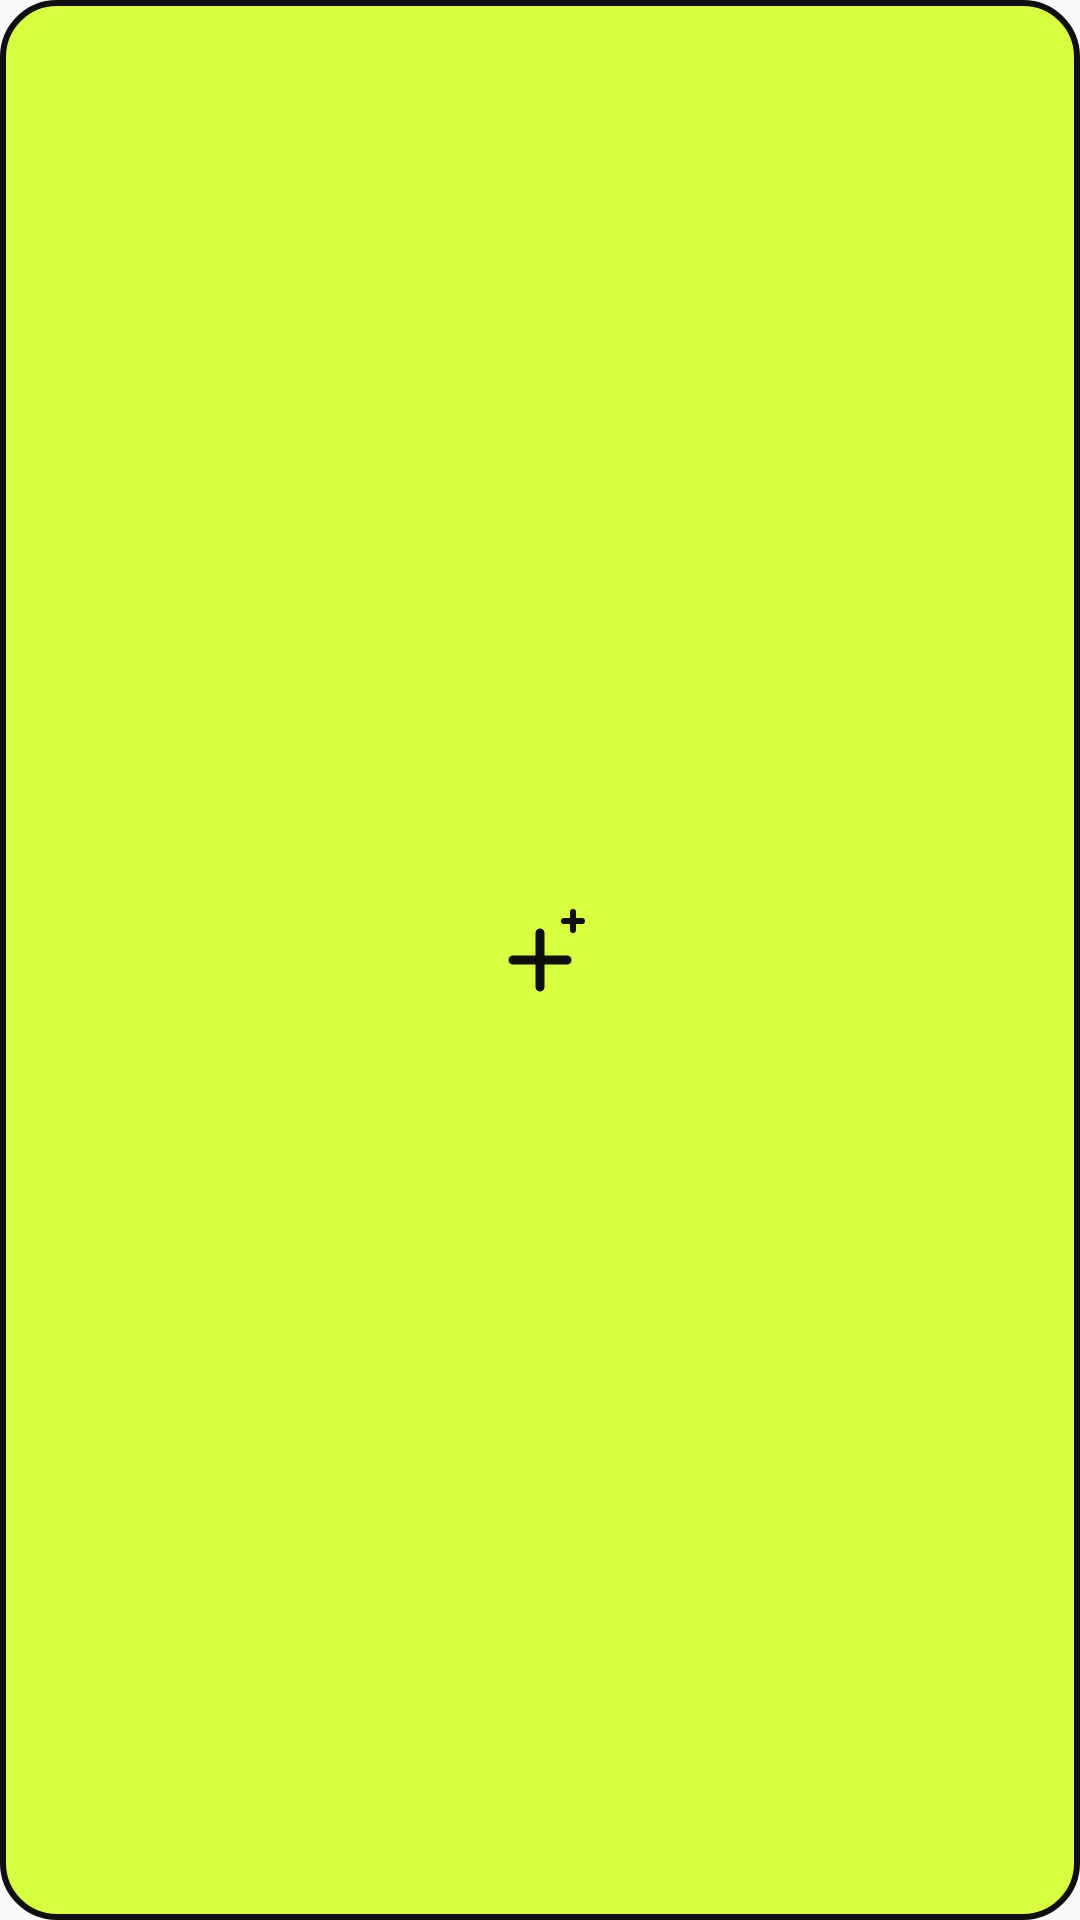

Icons on this 1080px×1920px Android screen, each with the point to tap as [x,y]:
capture thought: [546,950]
